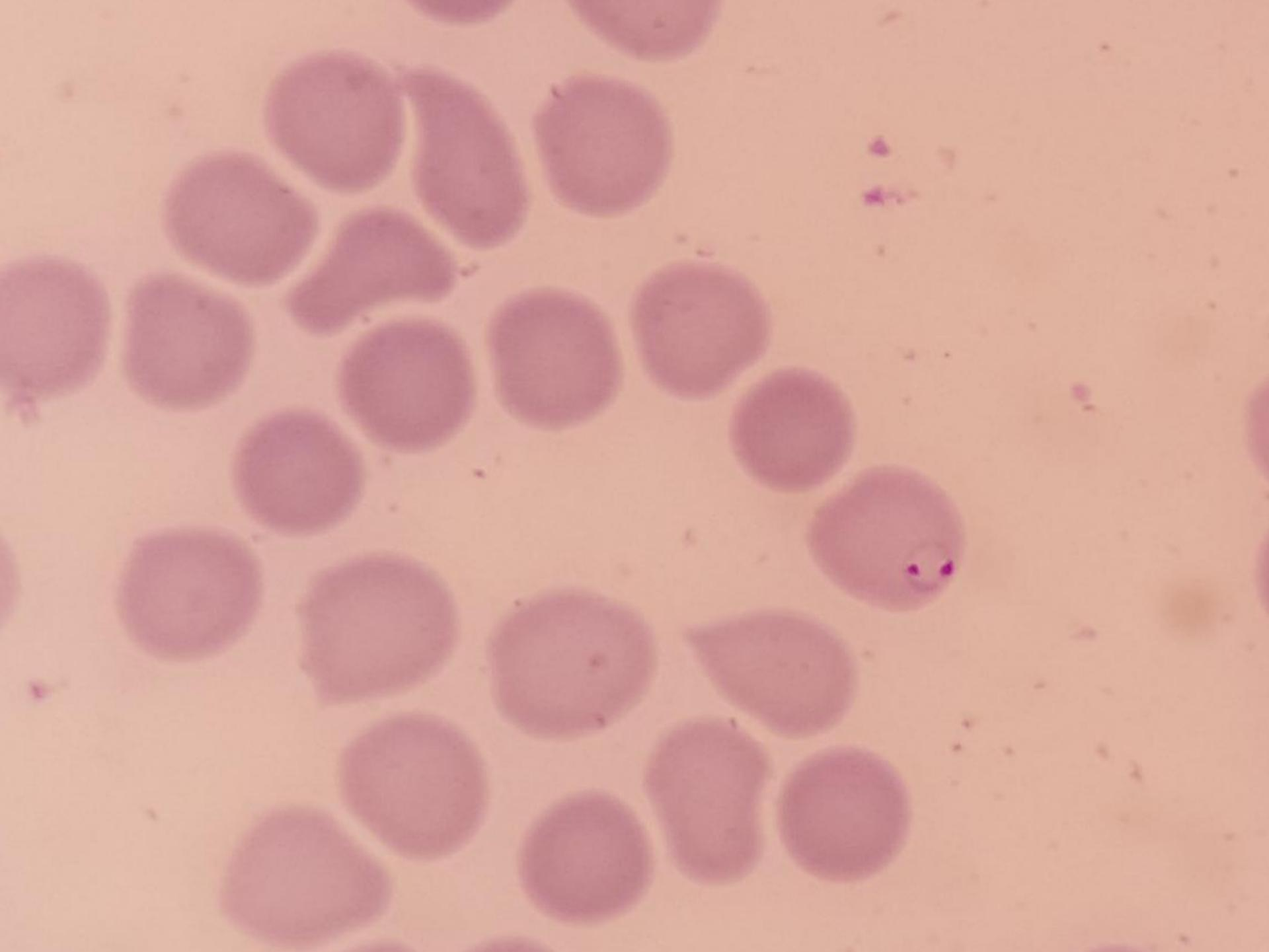Infected: (805, 468, 969, 611)
Uninfected: (395, 60, 524, 249), (297, 555, 458, 705), (494, 590, 656, 739), (164, 146, 321, 285), (230, 808, 392, 941), (283, 209, 458, 332), (694, 610, 860, 737), (651, 707, 769, 885), (345, 709, 482, 861), (264, 47, 409, 187), (124, 266, 257, 417), (119, 527, 261, 665), (638, 261, 770, 398), (777, 750, 909, 887), (539, 80, 671, 216), (522, 791, 657, 921), (342, 318, 471, 452), (238, 404, 366, 534), (495, 294, 615, 423), (0, 260, 112, 394), (737, 369, 857, 491)
